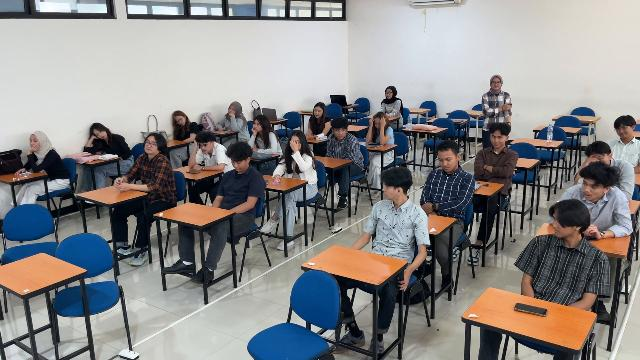bosan: (551, 214, 570, 238), (581, 179, 599, 200), (438, 153, 454, 172), (145, 137, 158, 154), (382, 184, 395, 200), (614, 126, 631, 138), (491, 134, 505, 147), (92, 128, 108, 139), (231, 159, 245, 171), (334, 127, 346, 140), (29, 135, 39, 149), (199, 143, 211, 154), (175, 115, 186, 126), (253, 121, 262, 131), (314, 107, 322, 118), (374, 119, 381, 130), (228, 106, 235, 115)
